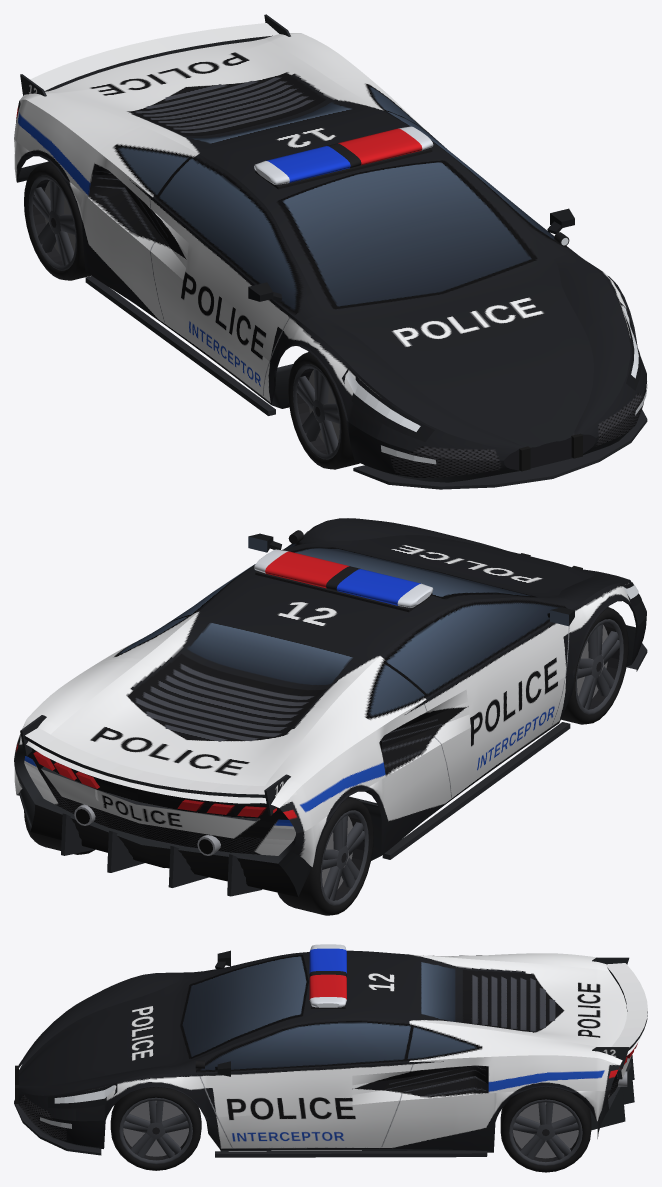
File: police-interceptor-5.glb
3 renders of one model, top to bottom at view 1: azimuth 30°, elevation 25°; view 2: azimuth 150°, elevation 25°; view 3: azimuth 270°, elevation 25°, orthographic. The views are drawn at different scales.
Parts seen in each view (by area): view 1: body, wheel_rr, wheel_fr; view 2: body, wheel_rr, wheel_fr; view 3: body, wheel_rl, wheel_fl.
Boxes of the visible parts, box(x1,y1,x2,y2) form: body: box(14, 14, 647, 489); wheel_rr: box(24, 162, 91, 280); wheel_fr: box(288, 352, 359, 469); body: box(14, 518, 647, 896); wheel_rr: box(277, 797, 373, 915); wheel_fr: box(561, 607, 628, 724); body: box(14, 944, 647, 1157); wheel_rl: box(500, 1087, 591, 1172); wheel_fl: box(110, 1087, 201, 1170).
Bounding box in the file's own units: 2.08 × 1.22 × 4.75.
Materials: 1 (1 with a texture image).
